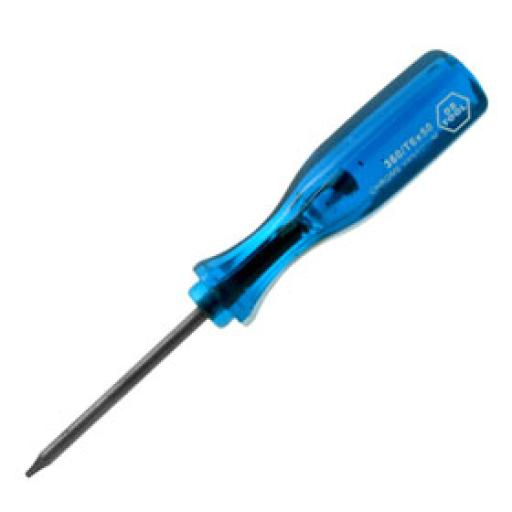screwdriver: (25, 49, 490, 477)
